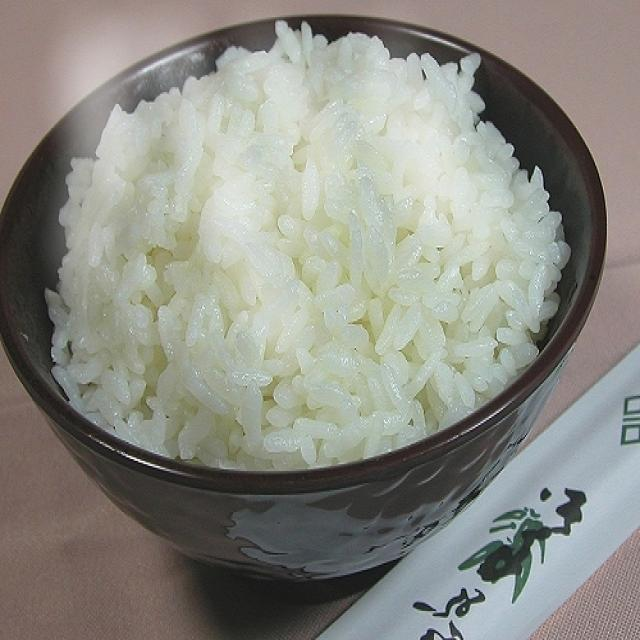Rice: (44, 30, 574, 487)
